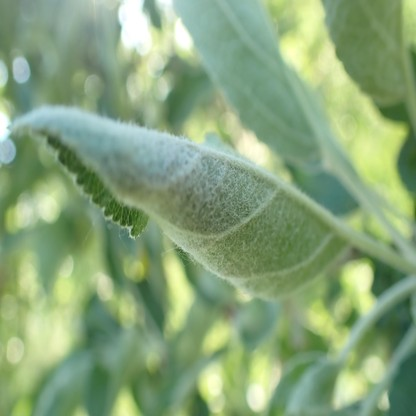powdery_mildew: (7, 107, 316, 300)
